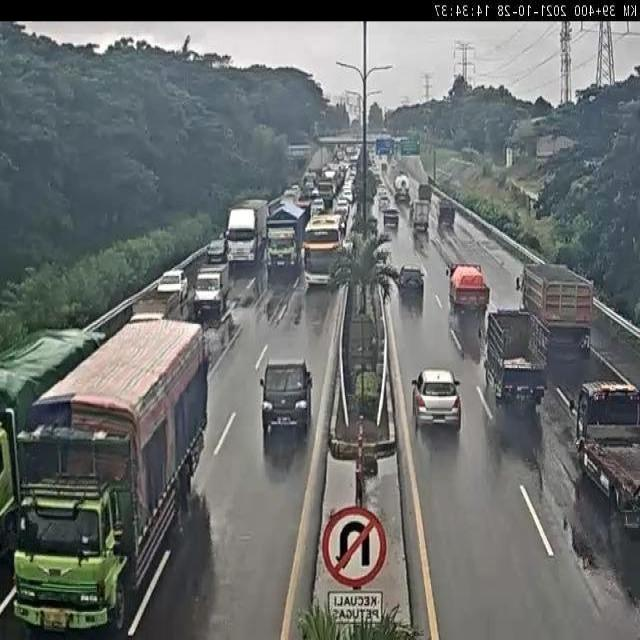Car: (259, 358, 313, 446), (413, 367, 464, 430), (193, 262, 231, 322), (157, 268, 190, 306), (398, 265, 424, 295), (207, 238, 228, 264), (382, 207, 400, 232), (333, 163, 348, 190), (337, 190, 352, 215), (374, 253, 388, 277), (310, 198, 325, 218), (302, 174, 316, 195), (378, 188, 391, 208), (372, 171, 382, 192), (342, 239, 353, 257), (346, 146, 358, 162), (284, 186, 298, 199), (386, 154, 396, 172), (335, 146, 345, 162), (367, 152, 375, 168)
Truck: (13, 315, 205, 630), (572, 382, 640, 531), (520, 262, 594, 370), (480, 307, 546, 408), (265, 200, 308, 279), (226, 197, 267, 267), (449, 262, 487, 308), (412, 200, 430, 234), (438, 200, 456, 228)
